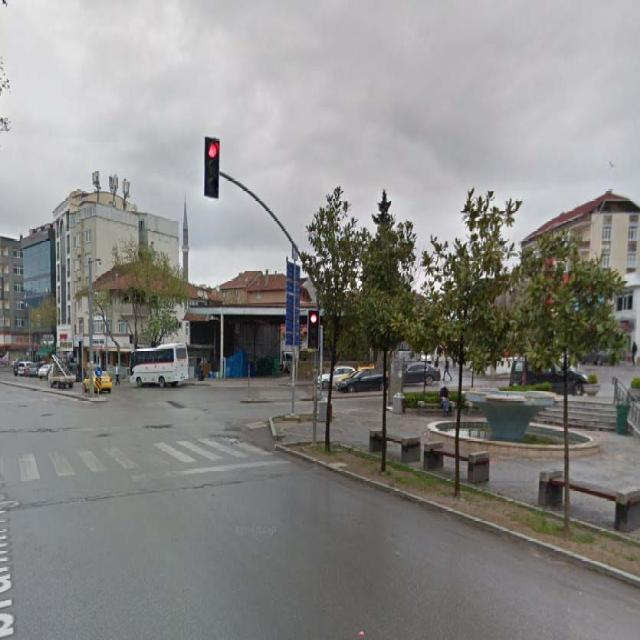kirmizi: (205, 134, 219, 197), (307, 310, 319, 349)
